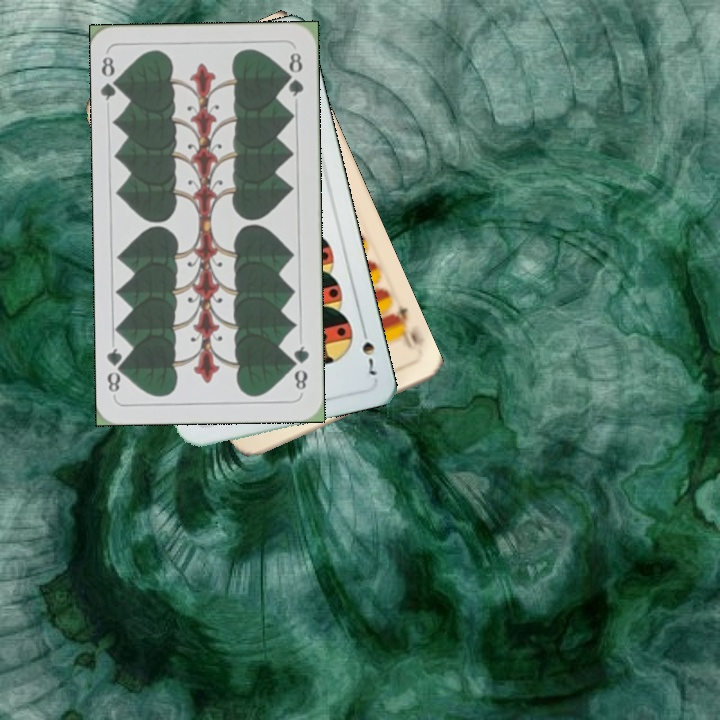E10: (385, 301, 426, 357)
G8: (97, 53, 125, 103), (288, 342, 312, 393)
S7: (357, 322, 379, 378)
